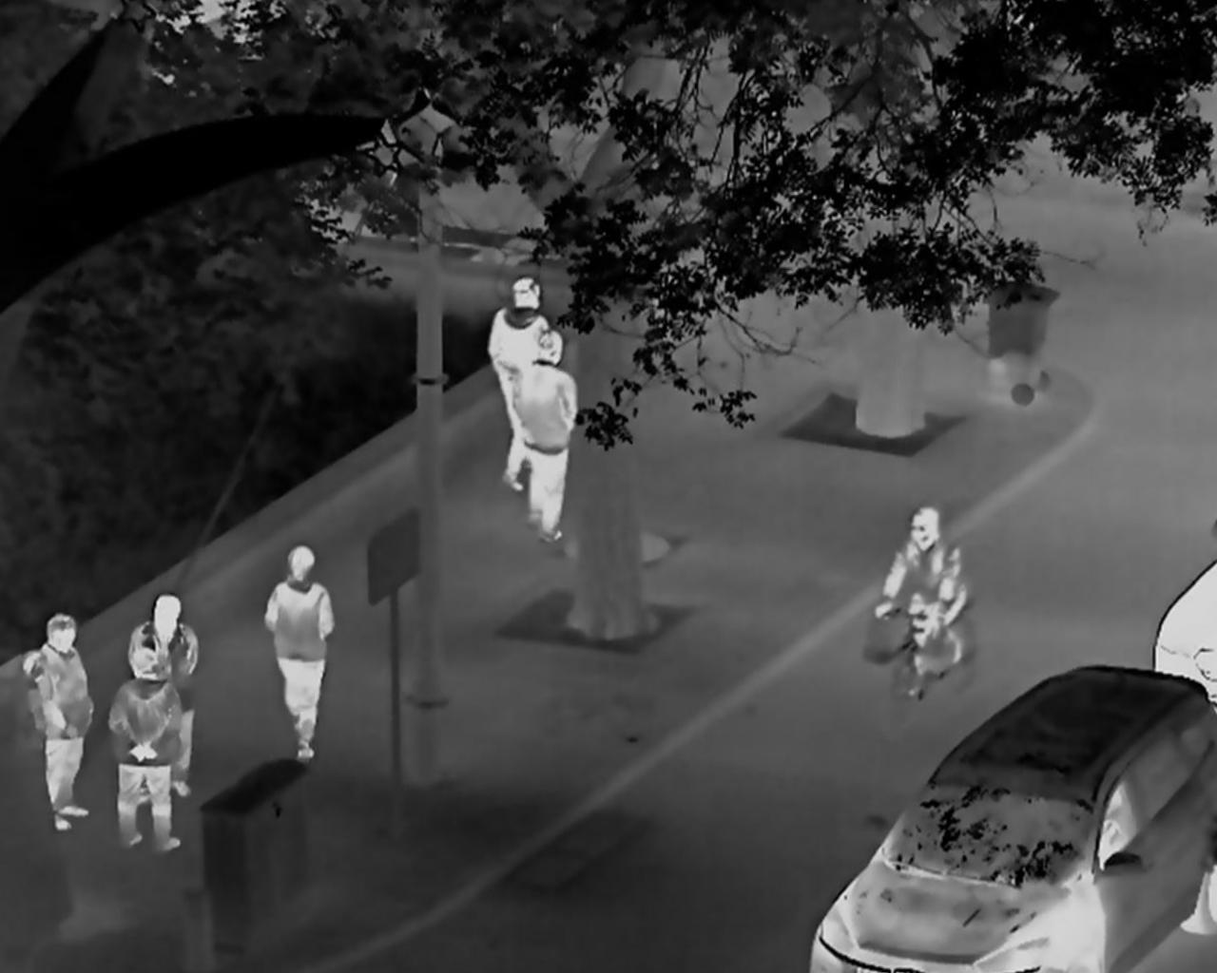person: (872, 505, 968, 698), (262, 544, 336, 762), (107, 646, 184, 854), (126, 593, 200, 799), (484, 276, 551, 495), (512, 328, 579, 544), (38, 613, 96, 832), (20, 650, 45, 735)
